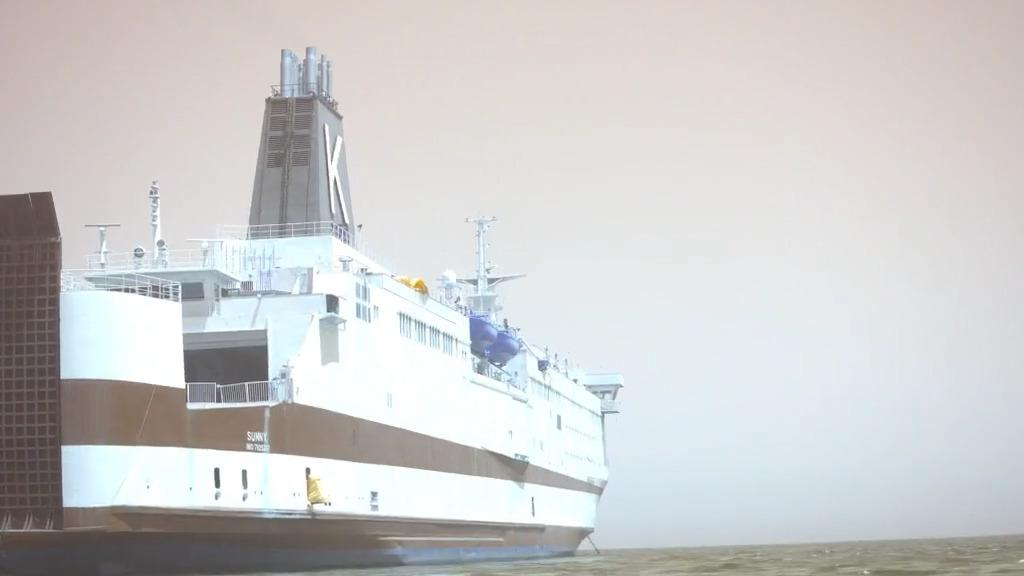PassengerShip: (0, 42, 640, 573)
